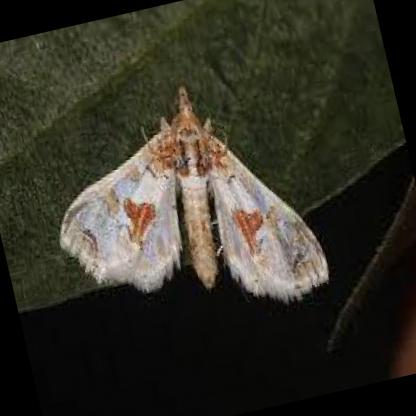leucinodes: (59, 88, 331, 304)
